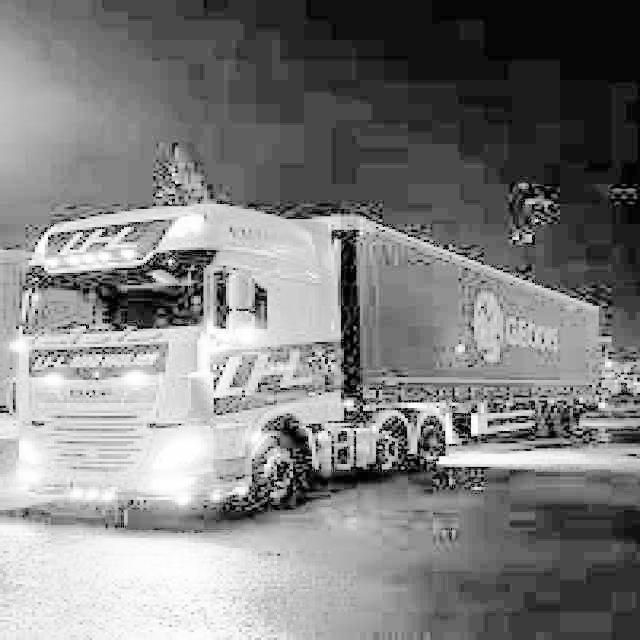Truck: (0, 143, 611, 528)
